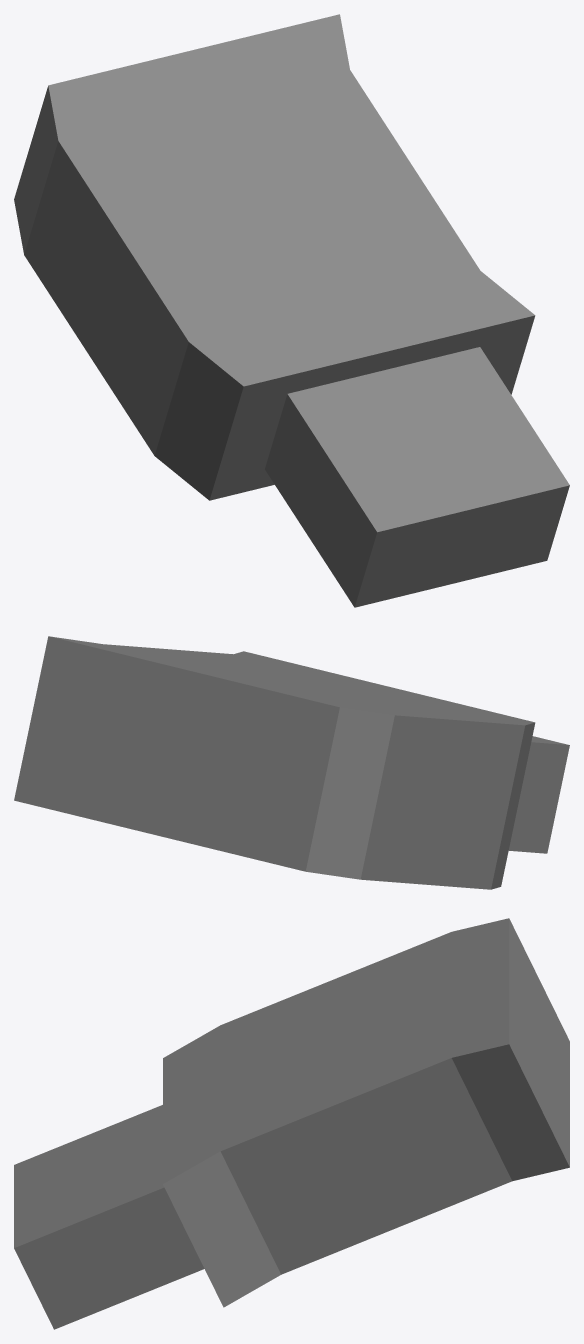
The model's file is SMG2_04_4.fbx.
3 renders of one model, top to bottom at view 1: azimuth 30°, elevation 25°; view 2: azimuth 150°, elevation 25°; view 3: azimuth 270°, elevation 25°, orthographic. The views are drawn at different scales.
Visible parts, largest first — view 1: SMG2_04_4; view 2: SMG2_04_4; view 3: SMG2_04_4.
Part boxes in pixels (x1,y1,x2,y2): SMG2_04_4: (14,14,569,607); SMG2_04_4: (14,636,569,889); SMG2_04_4: (14,918,569,1329).
Size of the model in its own units: 0.0118 by 0.0124 by 0.0204.
